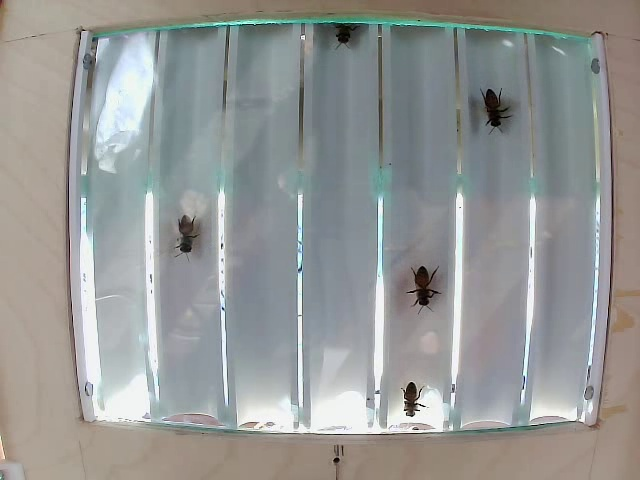bee: (402, 261, 440, 324), (166, 208, 208, 255), (478, 84, 508, 146), (324, 17, 355, 61), (405, 389, 430, 417)
